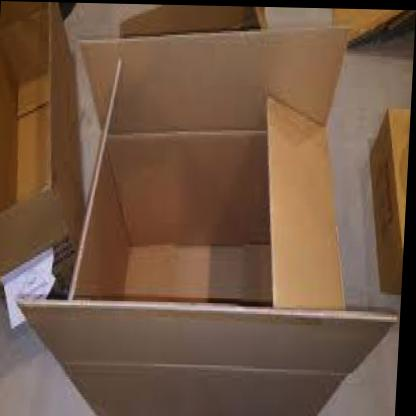Aluminum can: (0, 2, 413, 416)
